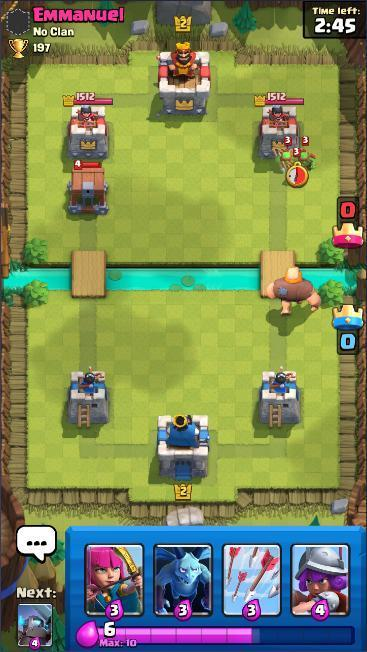ally_giant: (264, 265, 323, 317)
enemy_goblin_cage: (65, 158, 111, 218)
enemy_spear_goblin: (286, 147, 310, 189), (277, 135, 299, 175), (295, 135, 317, 173)
